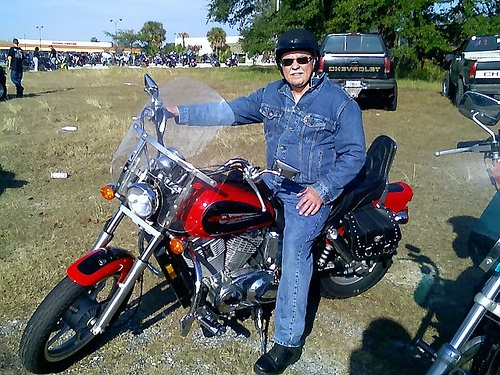non-vehicle: (16, 73, 412, 368), (411, 89, 497, 370), (182, 52, 197, 68), (167, 55, 178, 68), (209, 57, 220, 69), (154, 55, 163, 66)
